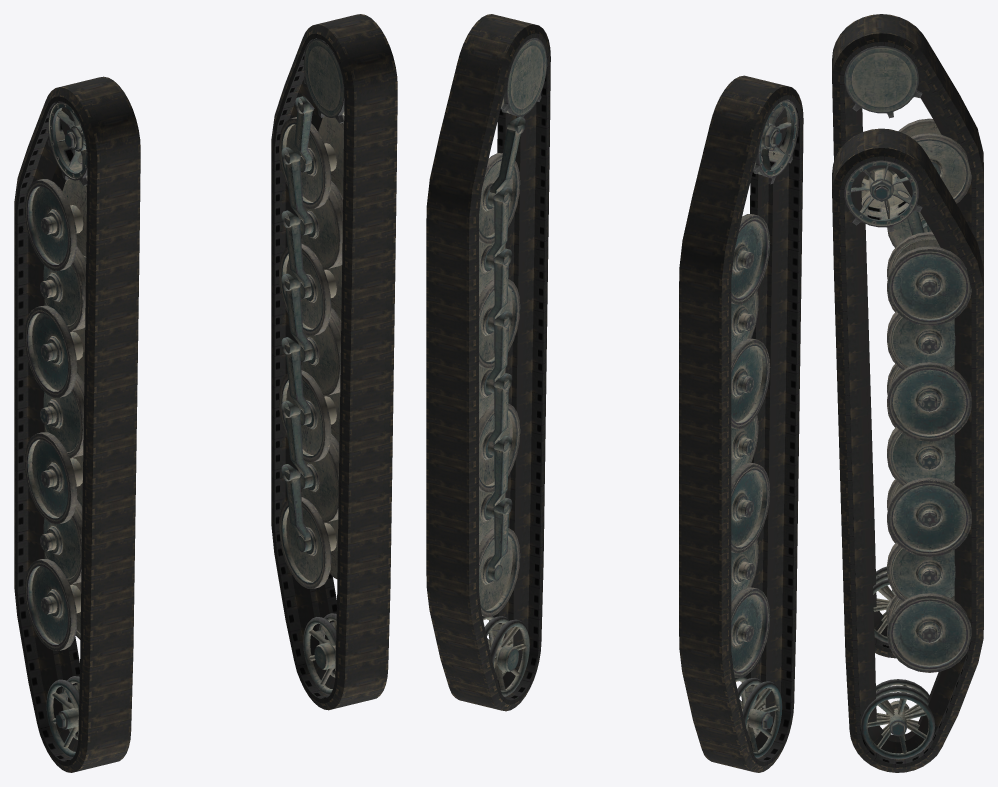
File: Chassis.glb
The picture shows the model from 3 angles, left to right: view 1: azimuth 30°, elevation 25°; view 2: azimuth 150°, elevation 25°; view 3: azimuth 270°, elevation 25°; orthographic projection. The views are drawn at different scales.
Visible parts, largest first — view 1: set_1_group_0, set_3_group_0, set_5_group_0, set_4_group_0, set_2_group_0, set_0_group_0; view 2: set_1_group_0, set_3_group_0, set_5_group_0, set_4_group_0, set_0_group_0, set_2_group_0; view 3: set_5_group_0, set_3_group_0, set_1_group_0, set_4_group_0, set_2_group_0, set_0_group_0.
Boxes of the visible parts, x1,y1,x2,y2 form: set_1_group_0: (14,76,140,772); set_3_group_0: (271,14,397,710); set_5_group_0: (279,38,344,695); set_4_group_0: (24,101,87,758); set_2_group_0: (335,568,390,678); set_0_group_0: (78,630,133,741); set_1_group_0: (679,75,803,772); set_3_group_0: (426,14,550,711); set_5_group_0: (479,38,547,696); set_4_group_0: (731,99,798,758); set_0_group_0: (745,602,796,708); set_2_group_0: (494,540,543,647); set_5_group_0: (844,160,971,759); set_3_group_0: (832,128,983,772); set_1_group_0: (832,14,983,658); set_4_group_0: (844,46,971,643); set_2_group_0: (845,623,876,731); set_0_group_0: (871,508,876,607).
Bounding box in the file's own units: 2.37 × 5.05 × 1.11.
Materials: 6 (6 with a texture image).
